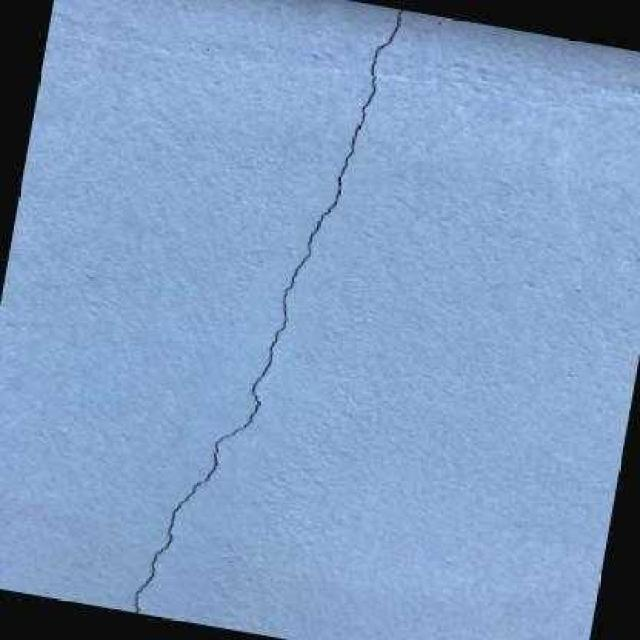D00: (130, 9, 403, 613)
